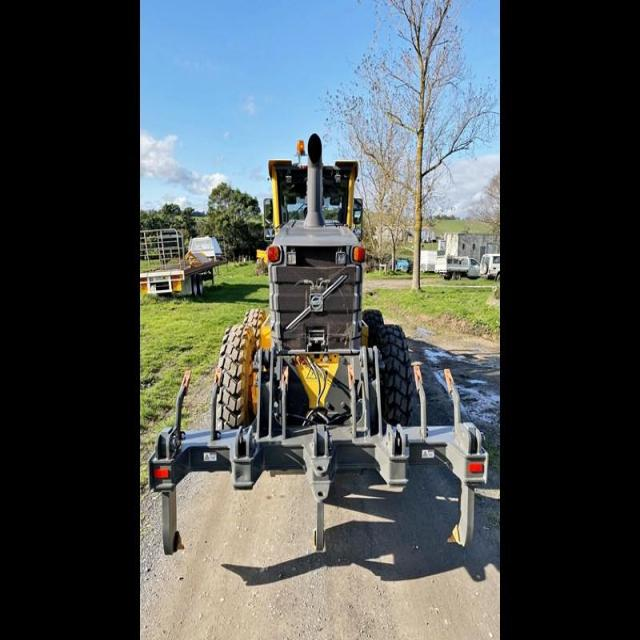Grader: (158, 109, 476, 519)
